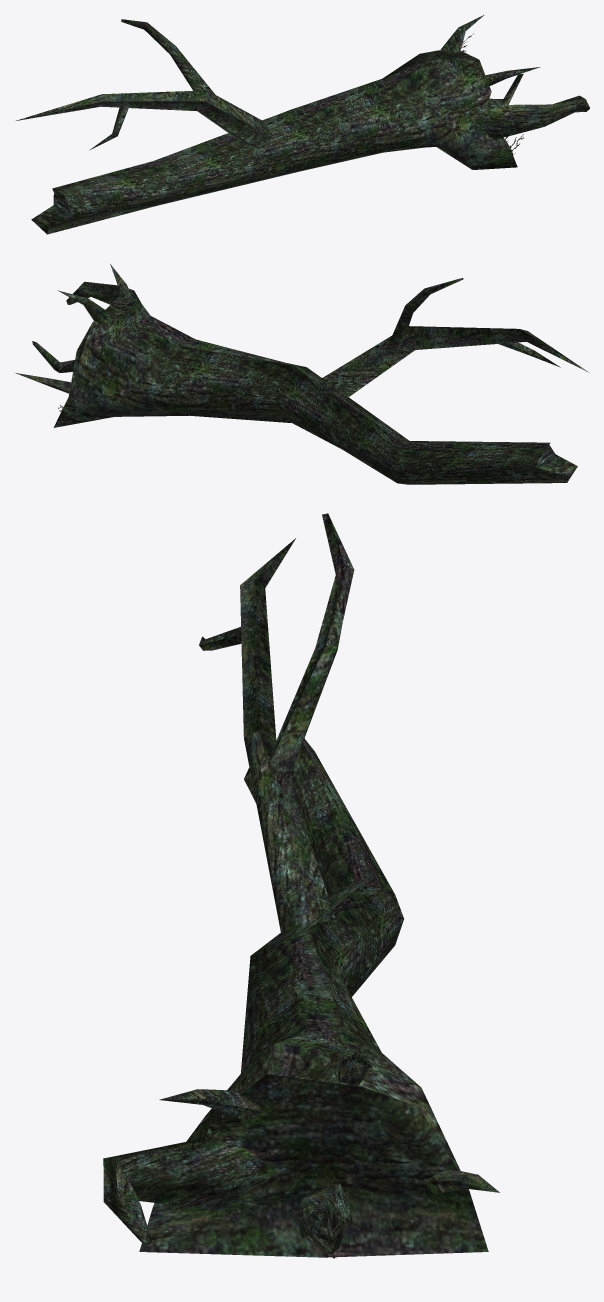
3 renders of one model, top to bottom at view 1: azimuth 30°, elevation 25°; view 2: azimuth 150°, elevation 25°; view 3: azimuth 270°, elevation 25°, orthographic. The views are drawn at different scales.
Parts seen in each view (by area): view 1: _FT02; view 2: _FT02; view 3: _FT02.
Boxes of the visible parts, x1=… form: _FT02: x1=16, y1=15, x2=589, y2=234; _FT02: x1=14, y1=264, x2=588, y2=484; _FT02: x1=103, y1=513, x2=499, y2=1258.
Bounding box in the file's own units: 9.26 × 3.39 × 2.96.
3 materials, 3 textured.
